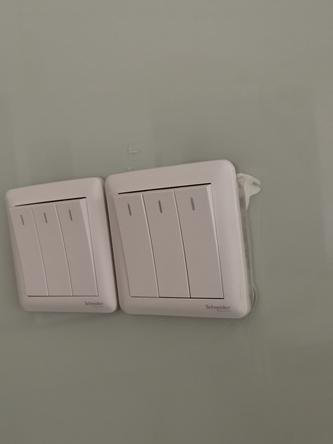switch: (177, 176, 229, 308), (142, 182, 192, 300), (117, 187, 160, 300), (58, 191, 101, 298), (31, 198, 73, 301), (12, 201, 48, 301)
